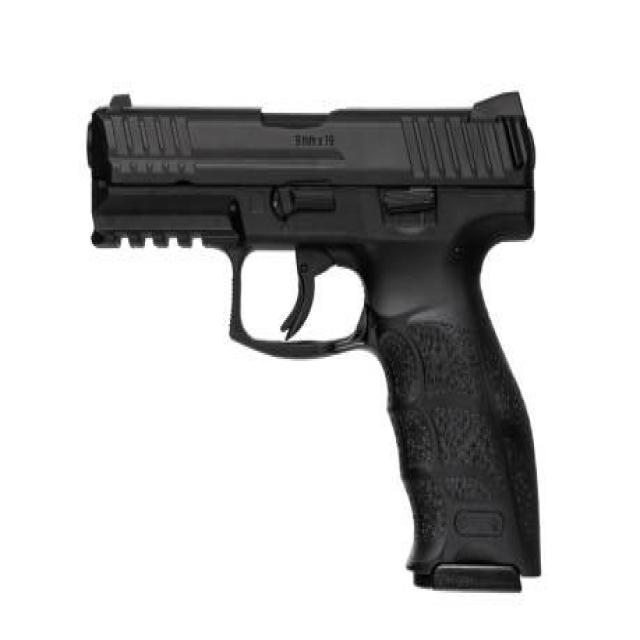pistol: (77, 82, 559, 605)
